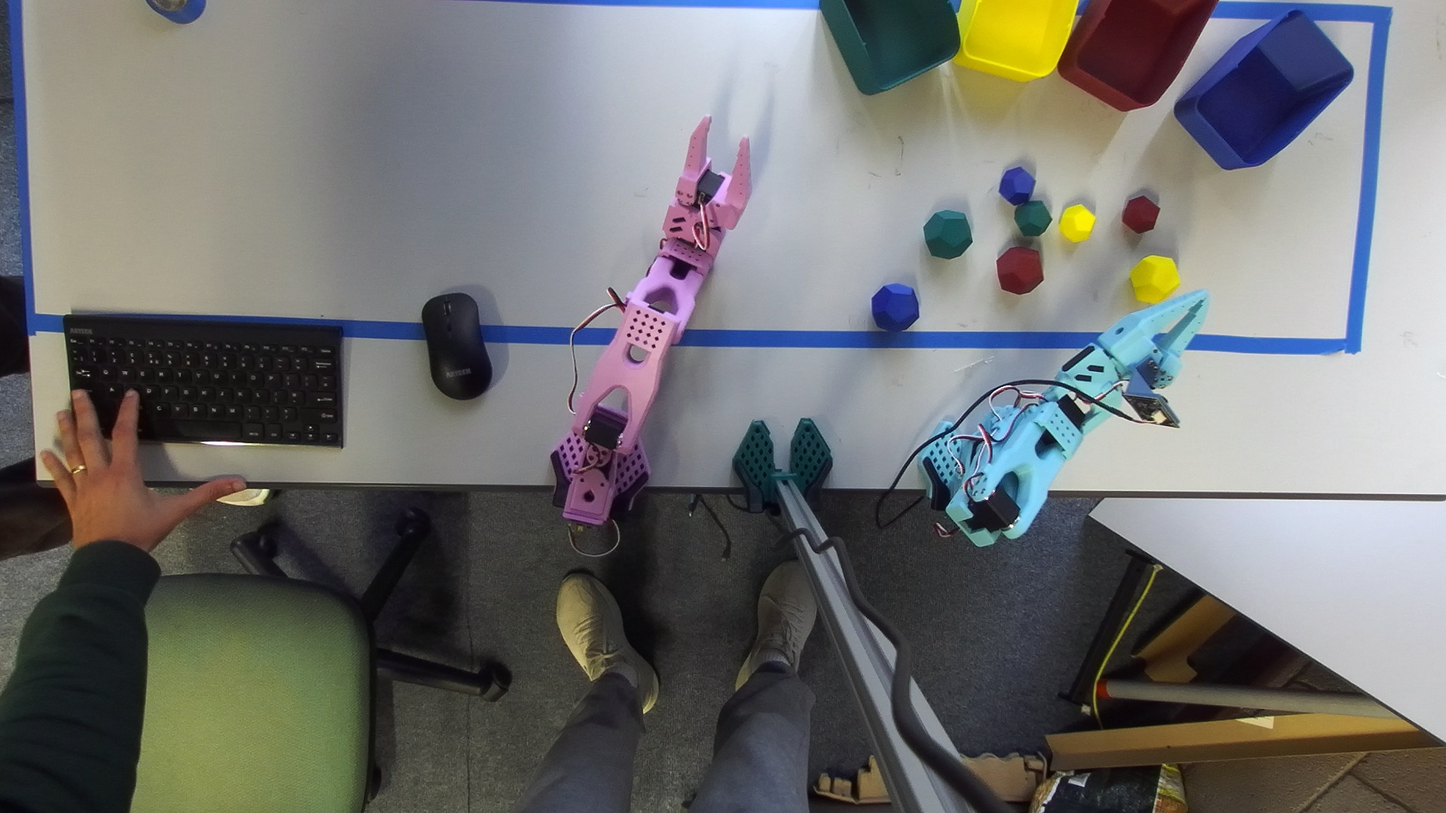bin: (1176, 10, 1353, 168), (1057, 0, 1216, 111), (819, 0, 959, 94), (953, 0, 1077, 80)
dodecahedron: (923, 210, 972, 259), (1130, 255, 1179, 303), (871, 283, 919, 331), (996, 247, 1043, 294), (1121, 193, 1159, 233), (998, 166, 1035, 205), (1014, 200, 1051, 236), (1059, 205, 1094, 242)
gripper: (662, 116, 751, 273), (1095, 290, 1208, 389)
